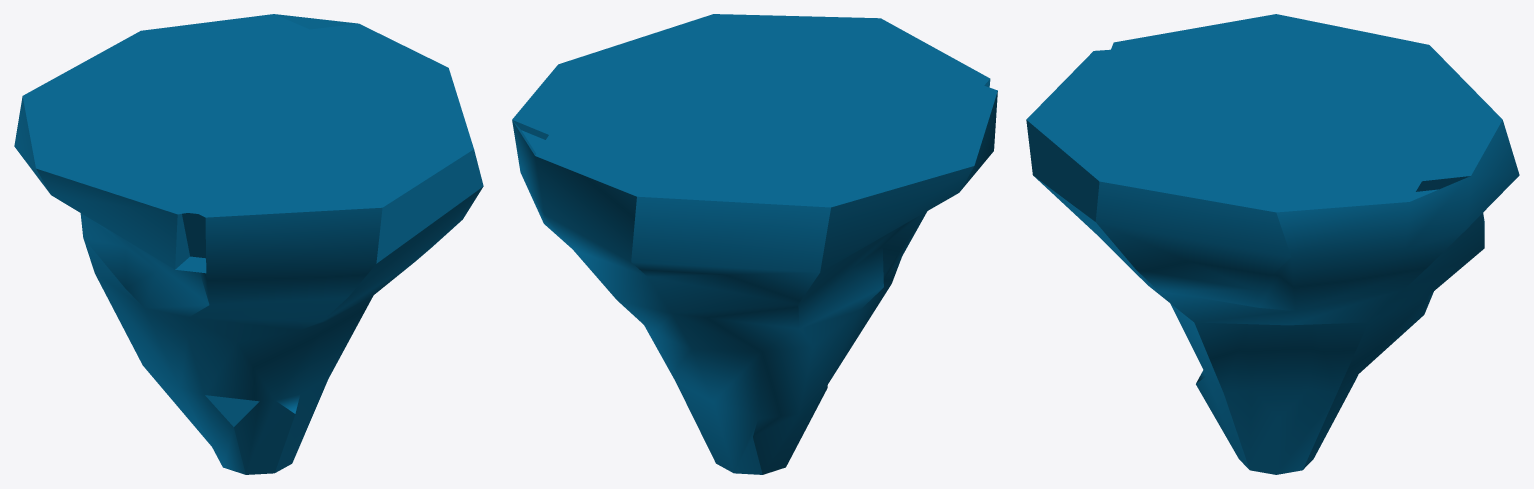
File: Sky_platform_2.fbx
The picture shows the model from 3 angles, left to right: view 1: azimuth 30°, elevation 25°; view 2: azimuth 150°, elevation 25°; view 3: azimuth 270°, elevation 25°; orthographic projection. The views are drawn at different scales.
Visible parts, largest first — view 1: MESH_Sky_Platform_2; view 2: MESH_Sky_Platform_2; view 3: MESH_Sky_Platform_2.
Boxes of the visible parts, left/top/right/bottom form: MESH_Sky_Platform_2: left=14, top=14, right=483, bottom=474; MESH_Sky_Platform_2: left=512, top=14, right=997, bottom=474; MESH_Sky_Platform_2: left=1026, top=14, right=1519, bottom=474.
Bounding box in the file's own units: 12.37 × 9.51 × 12.52.
